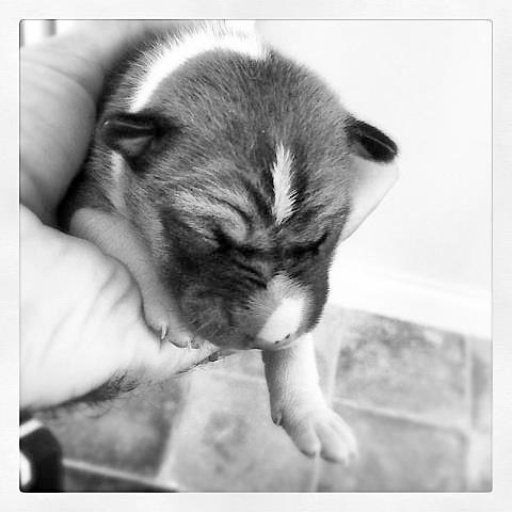hand: (19, 19, 402, 411)
